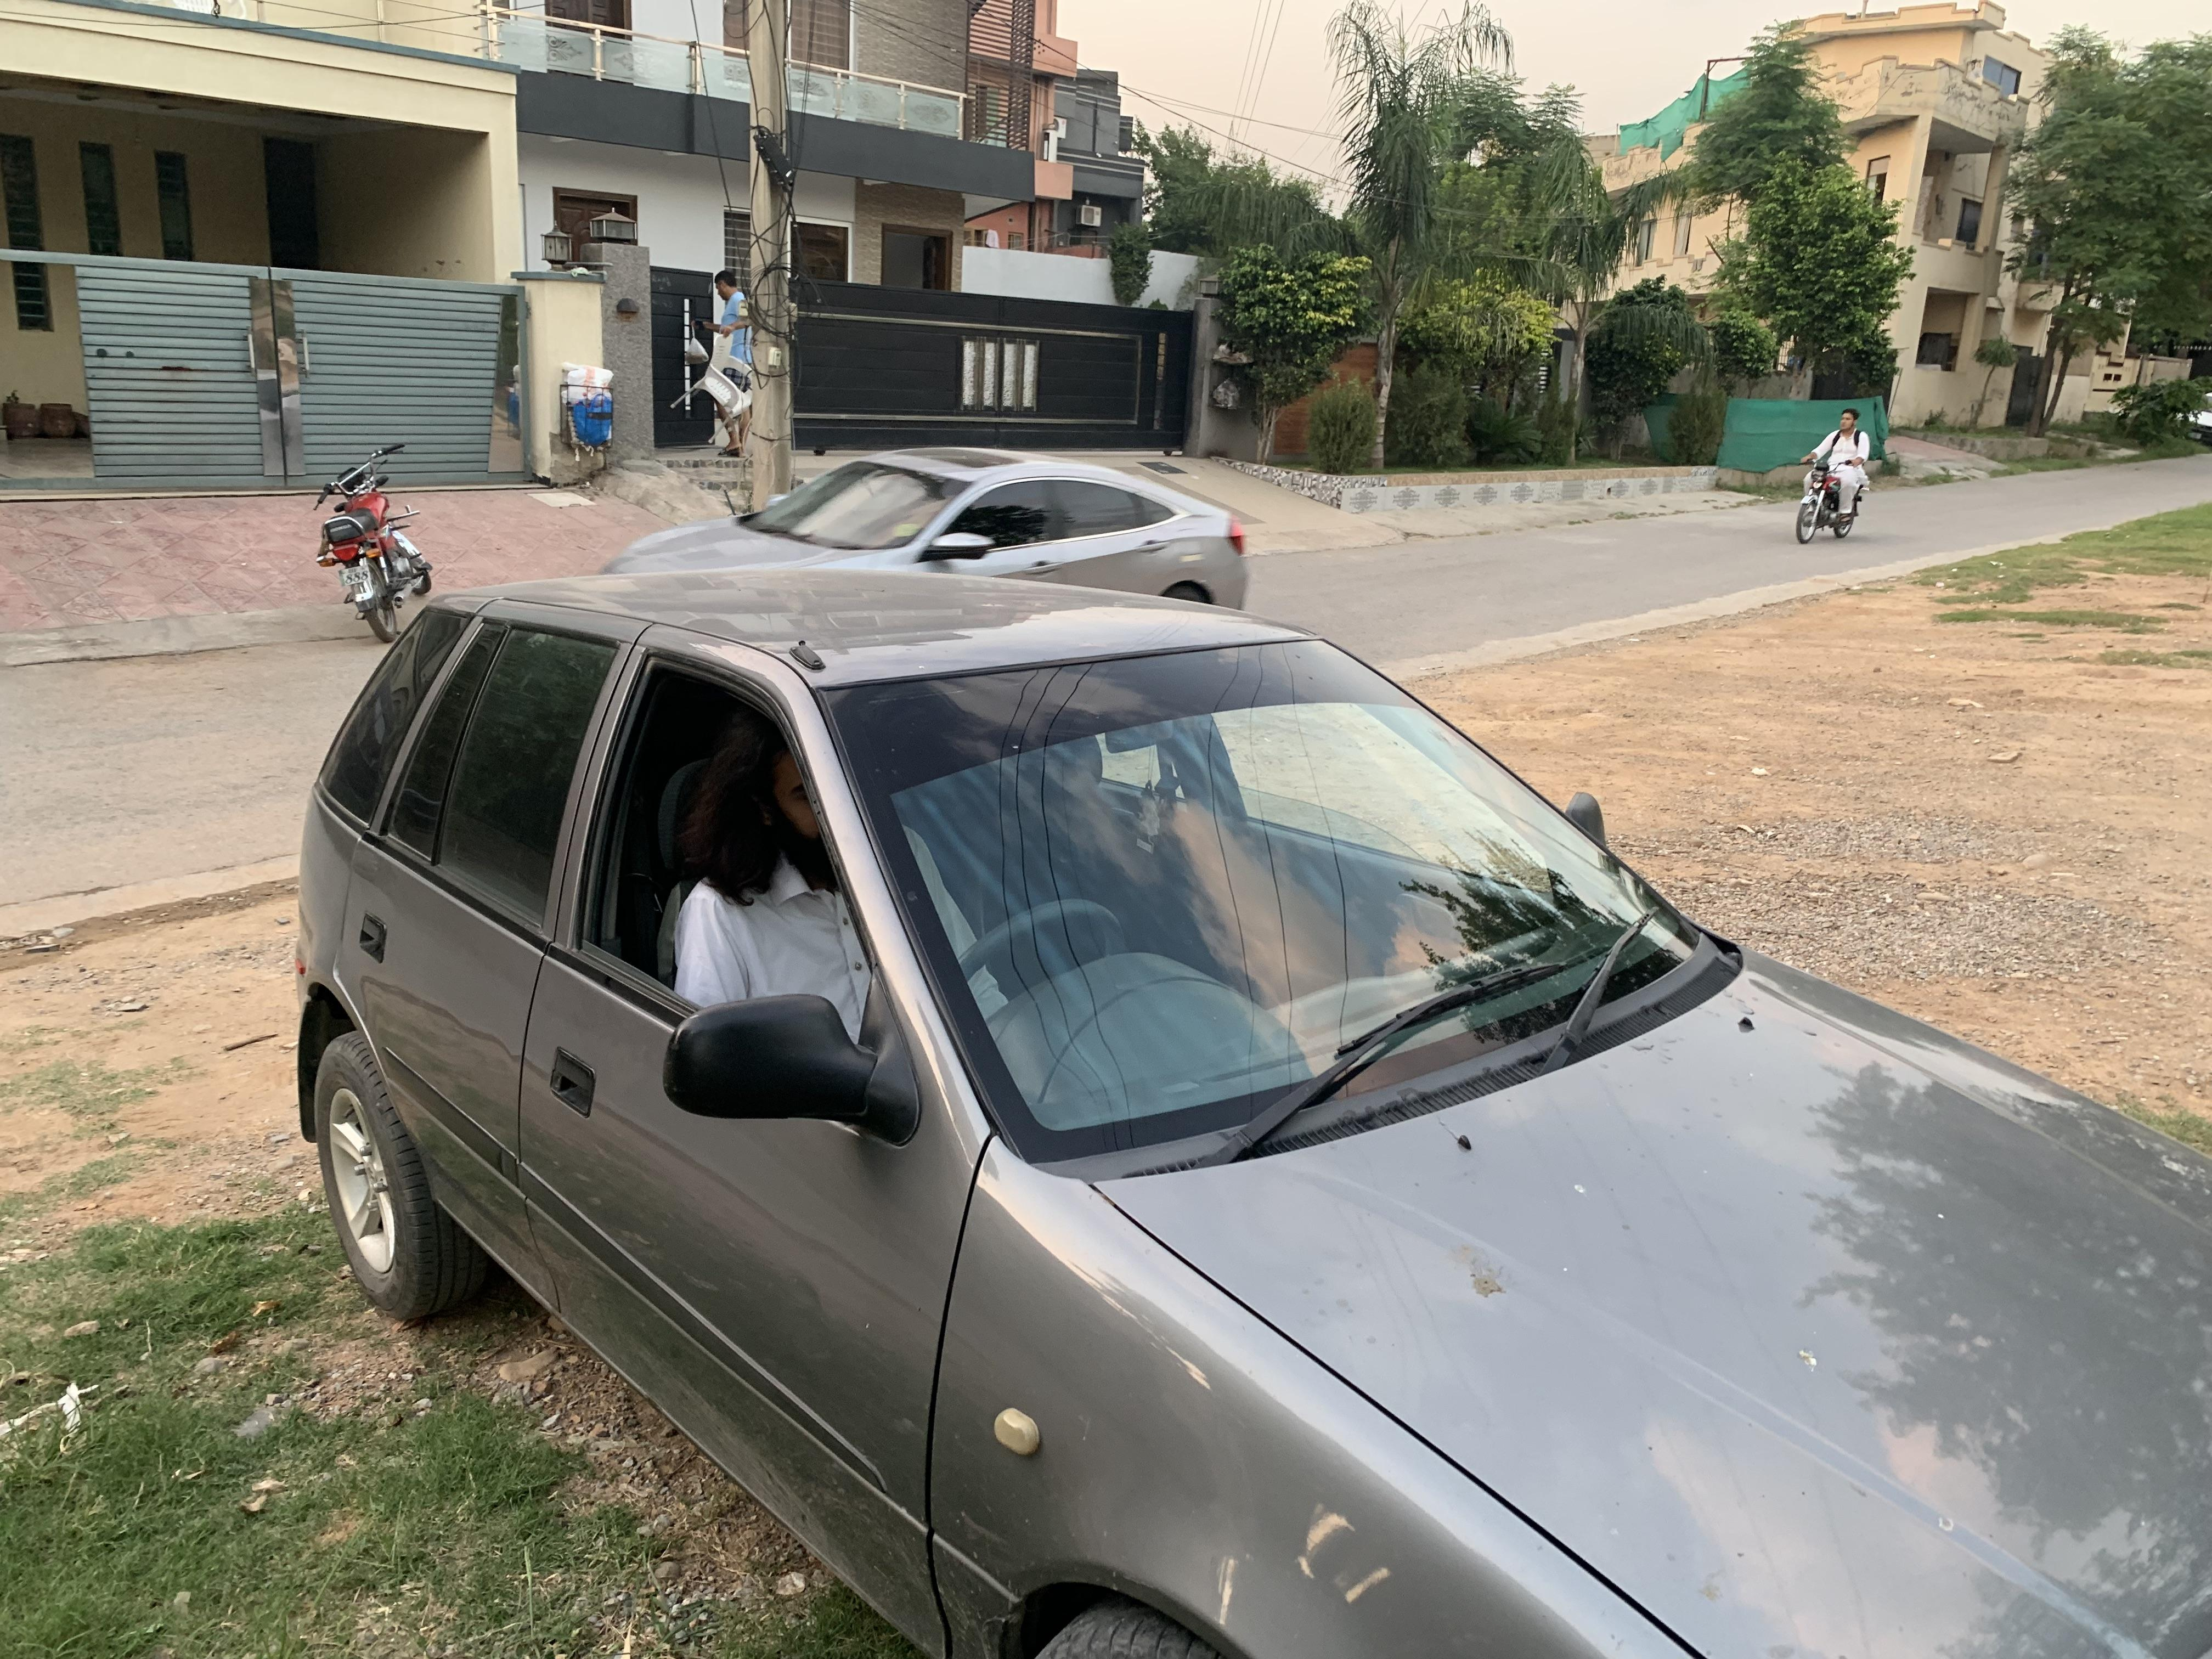windshield: (808, 620, 1768, 1208)
